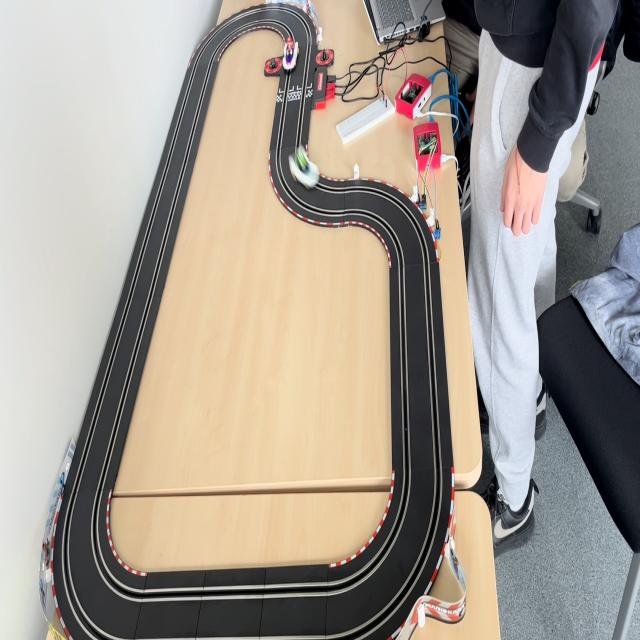mario: (281, 37, 300, 73)
yoshi: (287, 146, 324, 192)
